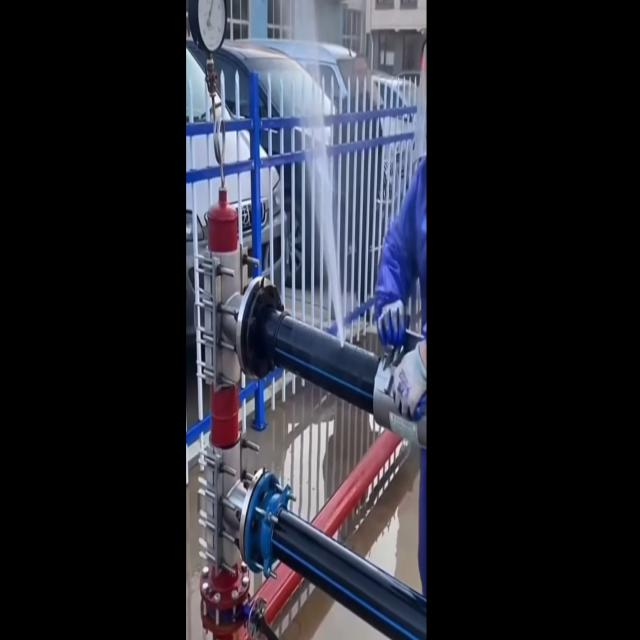leak: (314, 133, 345, 344)
